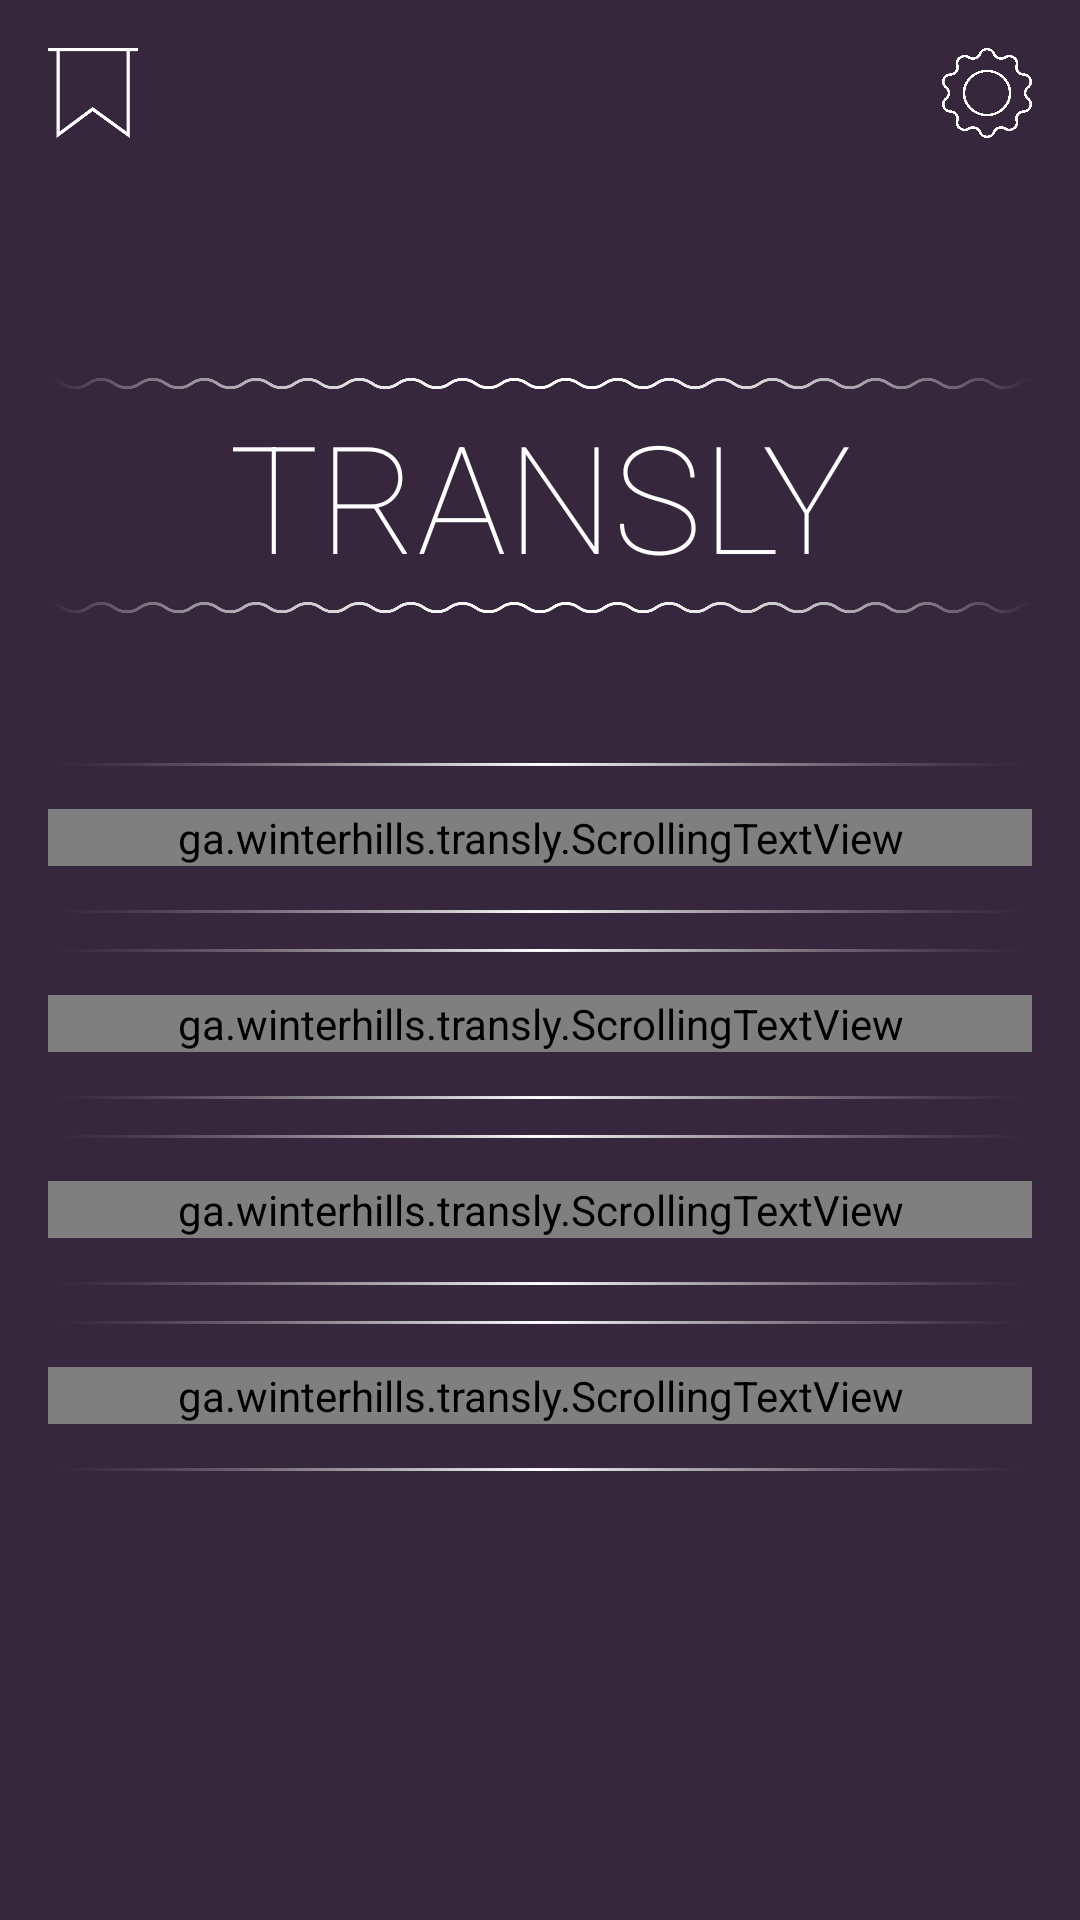

Point at icon controls on the screen. Image size 1080*1920, points as (x,y).
setbut: (987,93)
